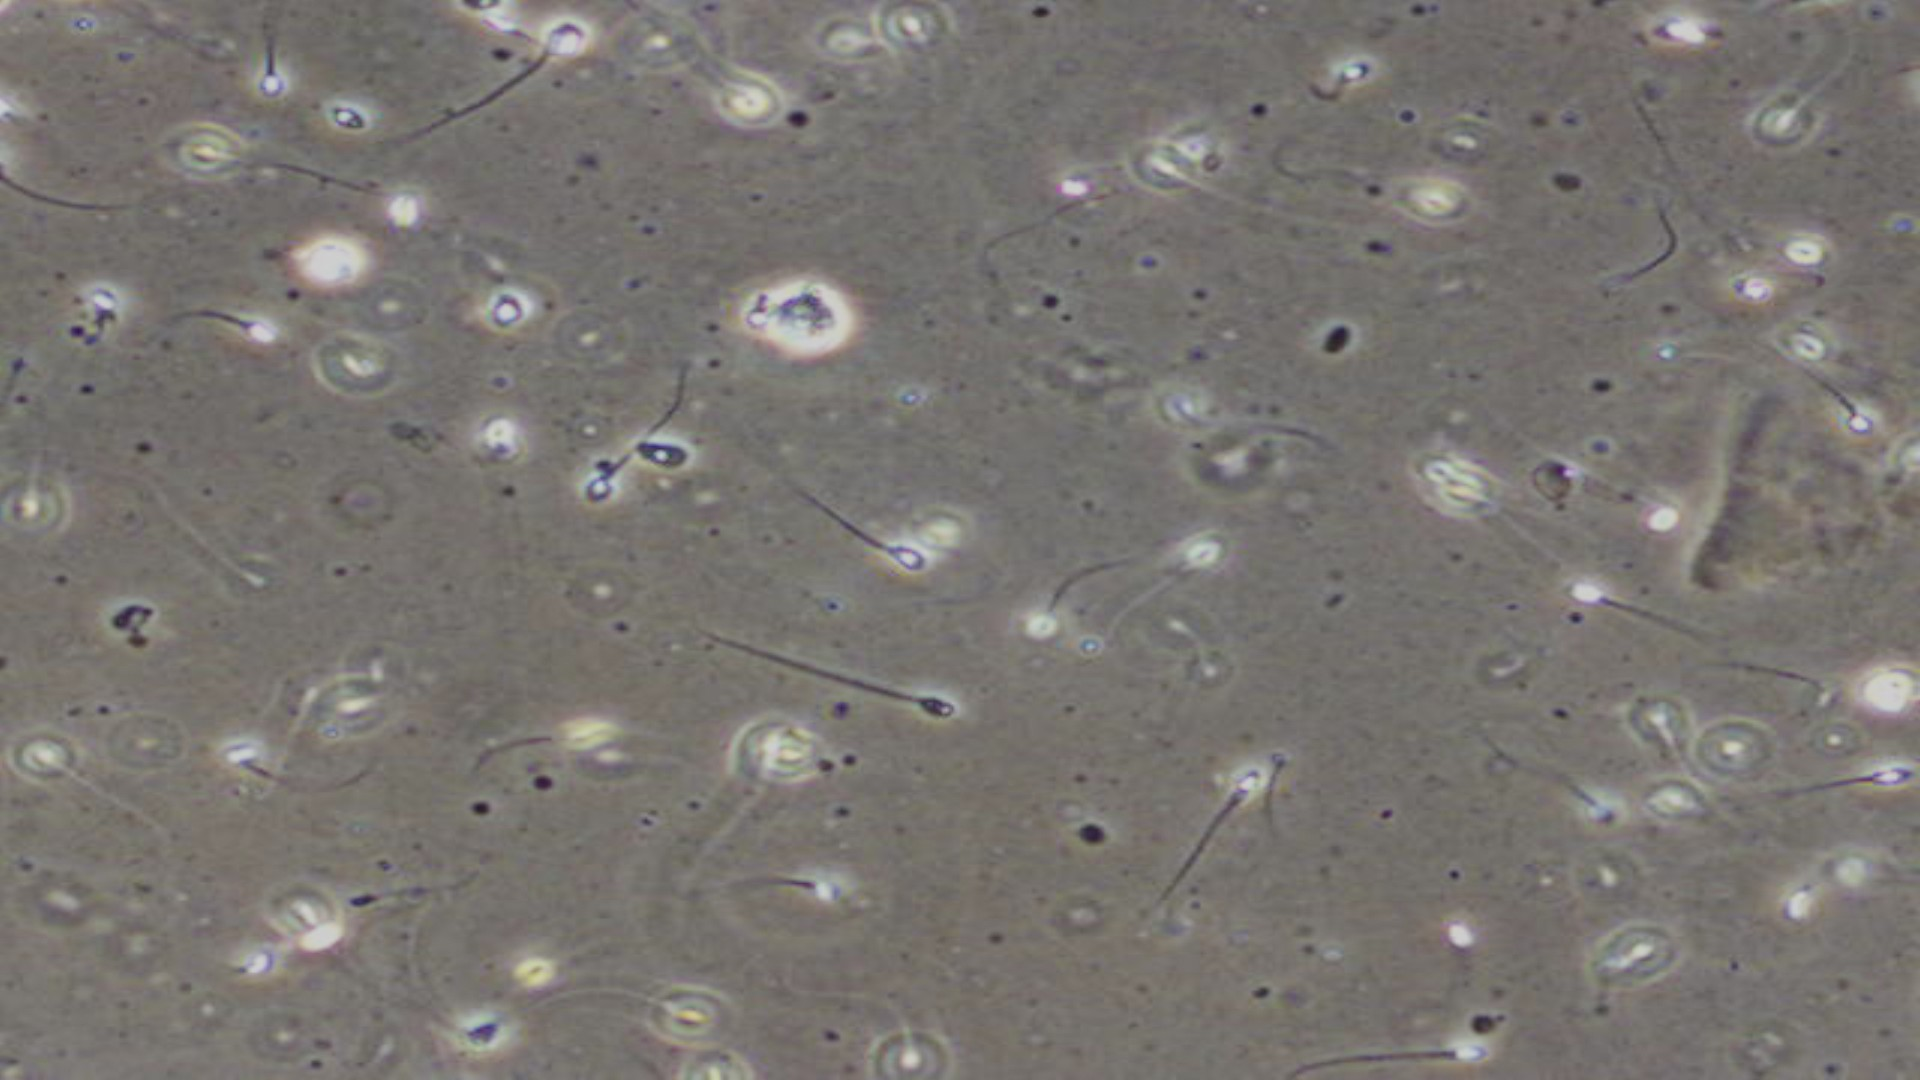sperm: (1560, 566, 1742, 676), (793, 653, 975, 732), (1168, 761, 1270, 895), (1760, 327, 1876, 443), (568, 435, 684, 546), (1010, 549, 1112, 671), (458, 28, 588, 120), (803, 498, 932, 584), (1265, 1040, 1510, 1079), (1789, 756, 1909, 822), (239, 11, 307, 117), (1290, 55, 1386, 128), (713, 862, 849, 907), (157, 301, 280, 345)
